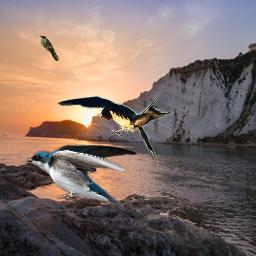Cuckoo: (39, 35, 59, 61)
Swallow: (55, 90, 193, 162), (26, 143, 138, 212)
